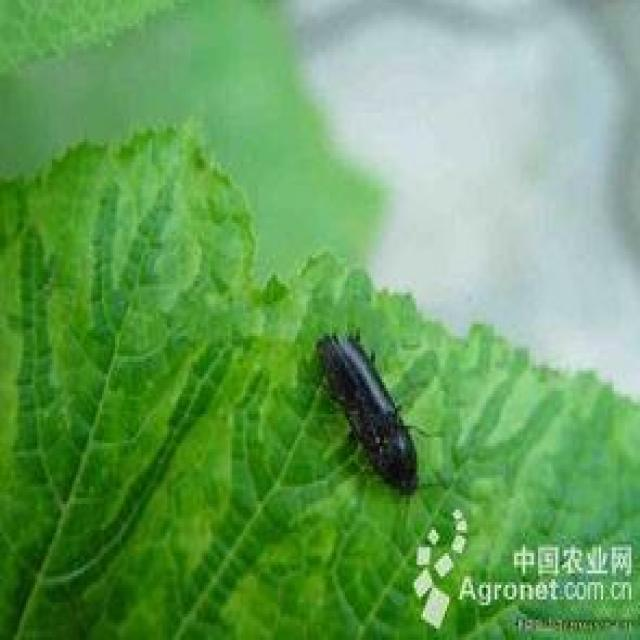armyworm: (320, 326, 436, 509)
